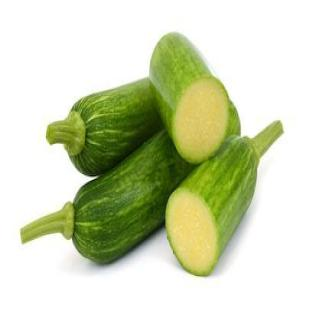Zucchini: (21, 130, 193, 262), (166, 122, 282, 275), (150, 33, 239, 163), (46, 78, 162, 175)
